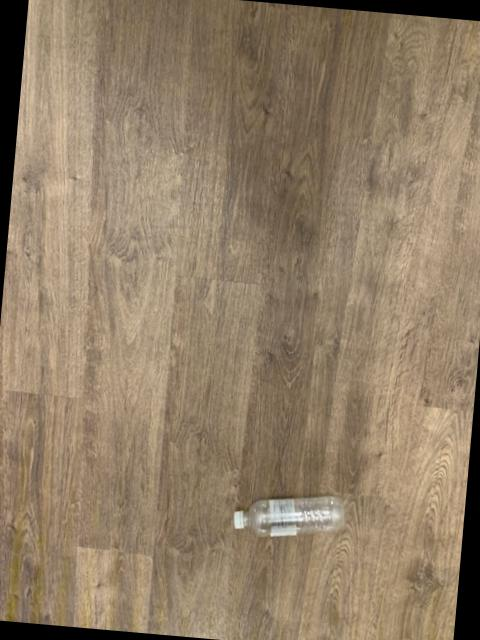plastic: (235, 496, 344, 537)
